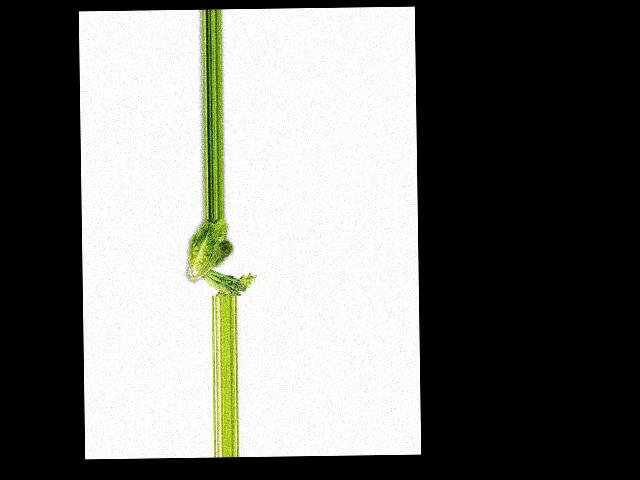lettuce: (188, 217, 238, 284)
